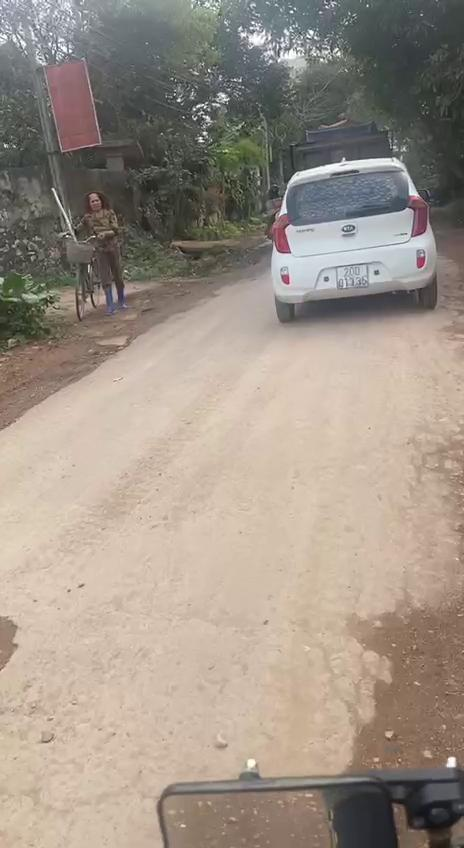pothole: (310, 592, 464, 802)
